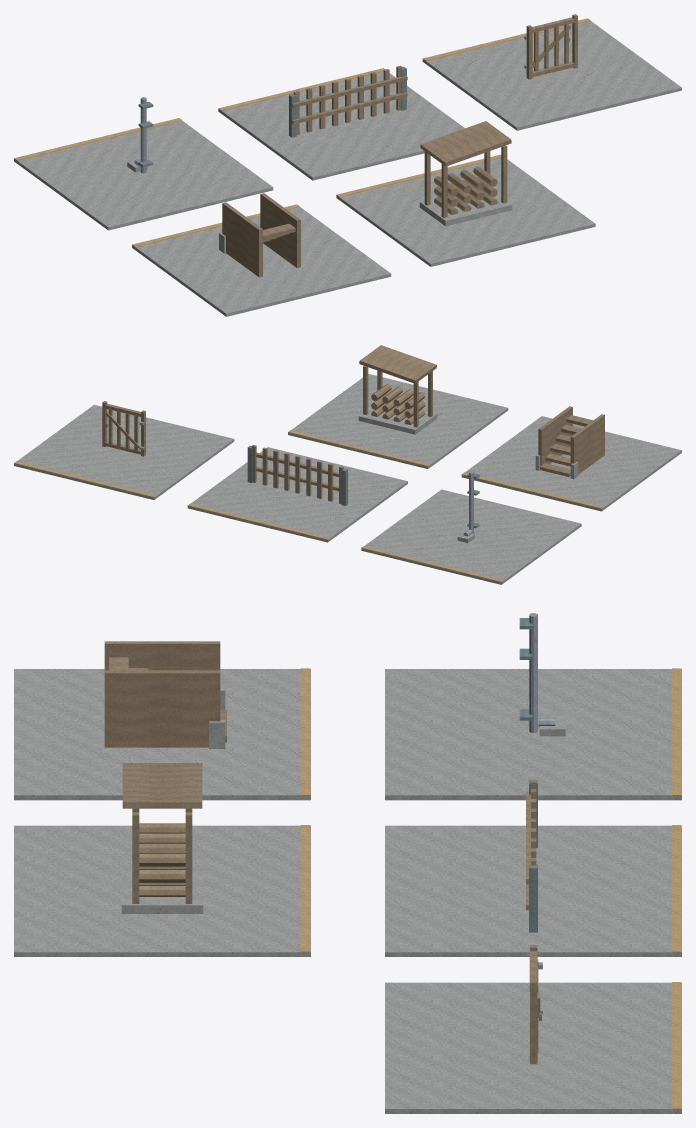
Rendered from level_blockout_kit_farmhouse_p05.glb.
The picture shows the model from 3 angles, top to bottom: view 1: azimuth 30°, elevation 25°; view 2: azimuth 150°, elevation 25°; view 3: azimuth 270°, elevation 25°; orthographic projection. The views are drawn at different scales.
Visible parts, largest first — view 1: level_blockout_kit_farmhouse_p05; view 2: level_blockout_kit_farmhouse_p05; view 3: level_blockout_kit_farmhouse_p05.
Boxes of the visible parts, x1=… form: level_blockout_kit_farmhouse_p05: x1=14, y1=14, x2=681, y2=316; level_blockout_kit_farmhouse_p05: x1=14, y1=345, x2=681, y2=584; level_blockout_kit_farmhouse_p05: x1=14, y1=613, x2=681, y2=1113.
Size of the model in its own units: 19.65 by 2.54 by 12.6.
Materials: 6 (6 with a texture image).
